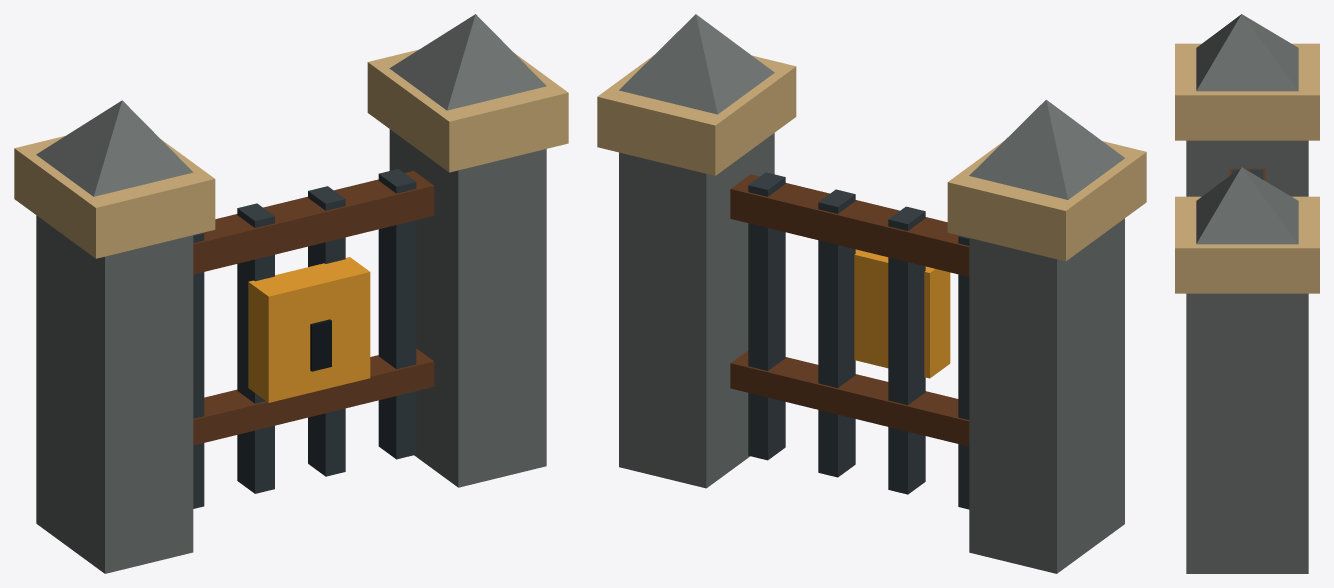
The model's file is Gate.fbx.
3 renders of one model, left to right at view 1: azimuth 30°, elevation 25°; view 2: azimuth 150°, elevation 25°; view 3: azimuth 270°, elevation 25°, orthographic. The views are drawn at different scales.
Visible parts, largest first — view 1: Gate; view 2: Gate; view 3: Gate.
Boxes of the visible parts, x1,y1,x2,y2 form: Gate: (14,14,568,573); Gate: (597,14,1146,573); Gate: (1175,14,1319,573).
Size of the model in its own units: 107 by 95 by 32.
